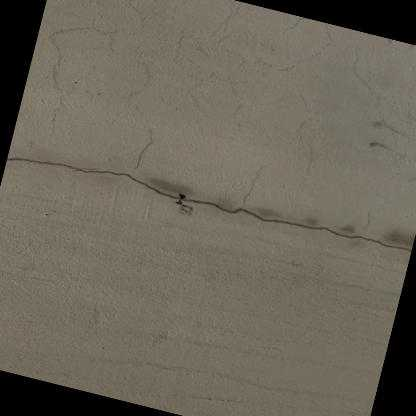crack: (9, 157, 412, 254)
